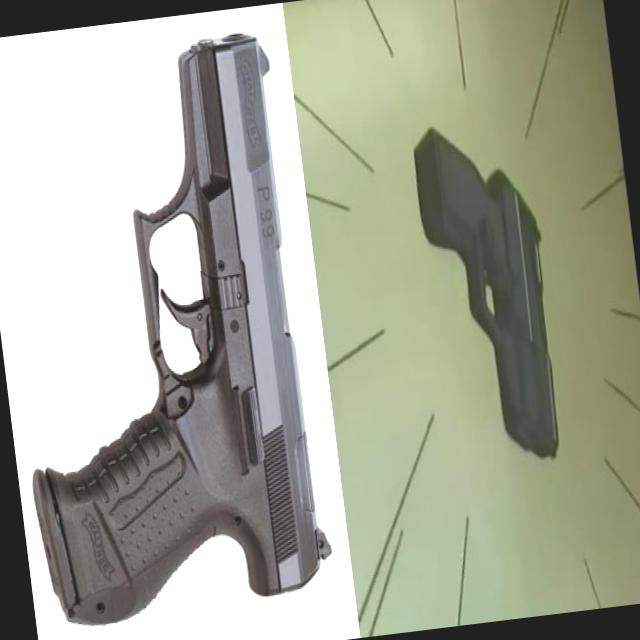handgun: (0, 27, 336, 633), (407, 114, 570, 470)
